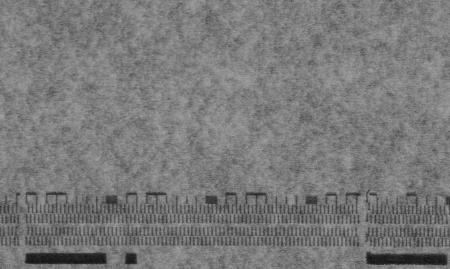Oblique printing: (362, 198, 380, 226), (433, 202, 450, 228), (363, 227, 377, 249)
